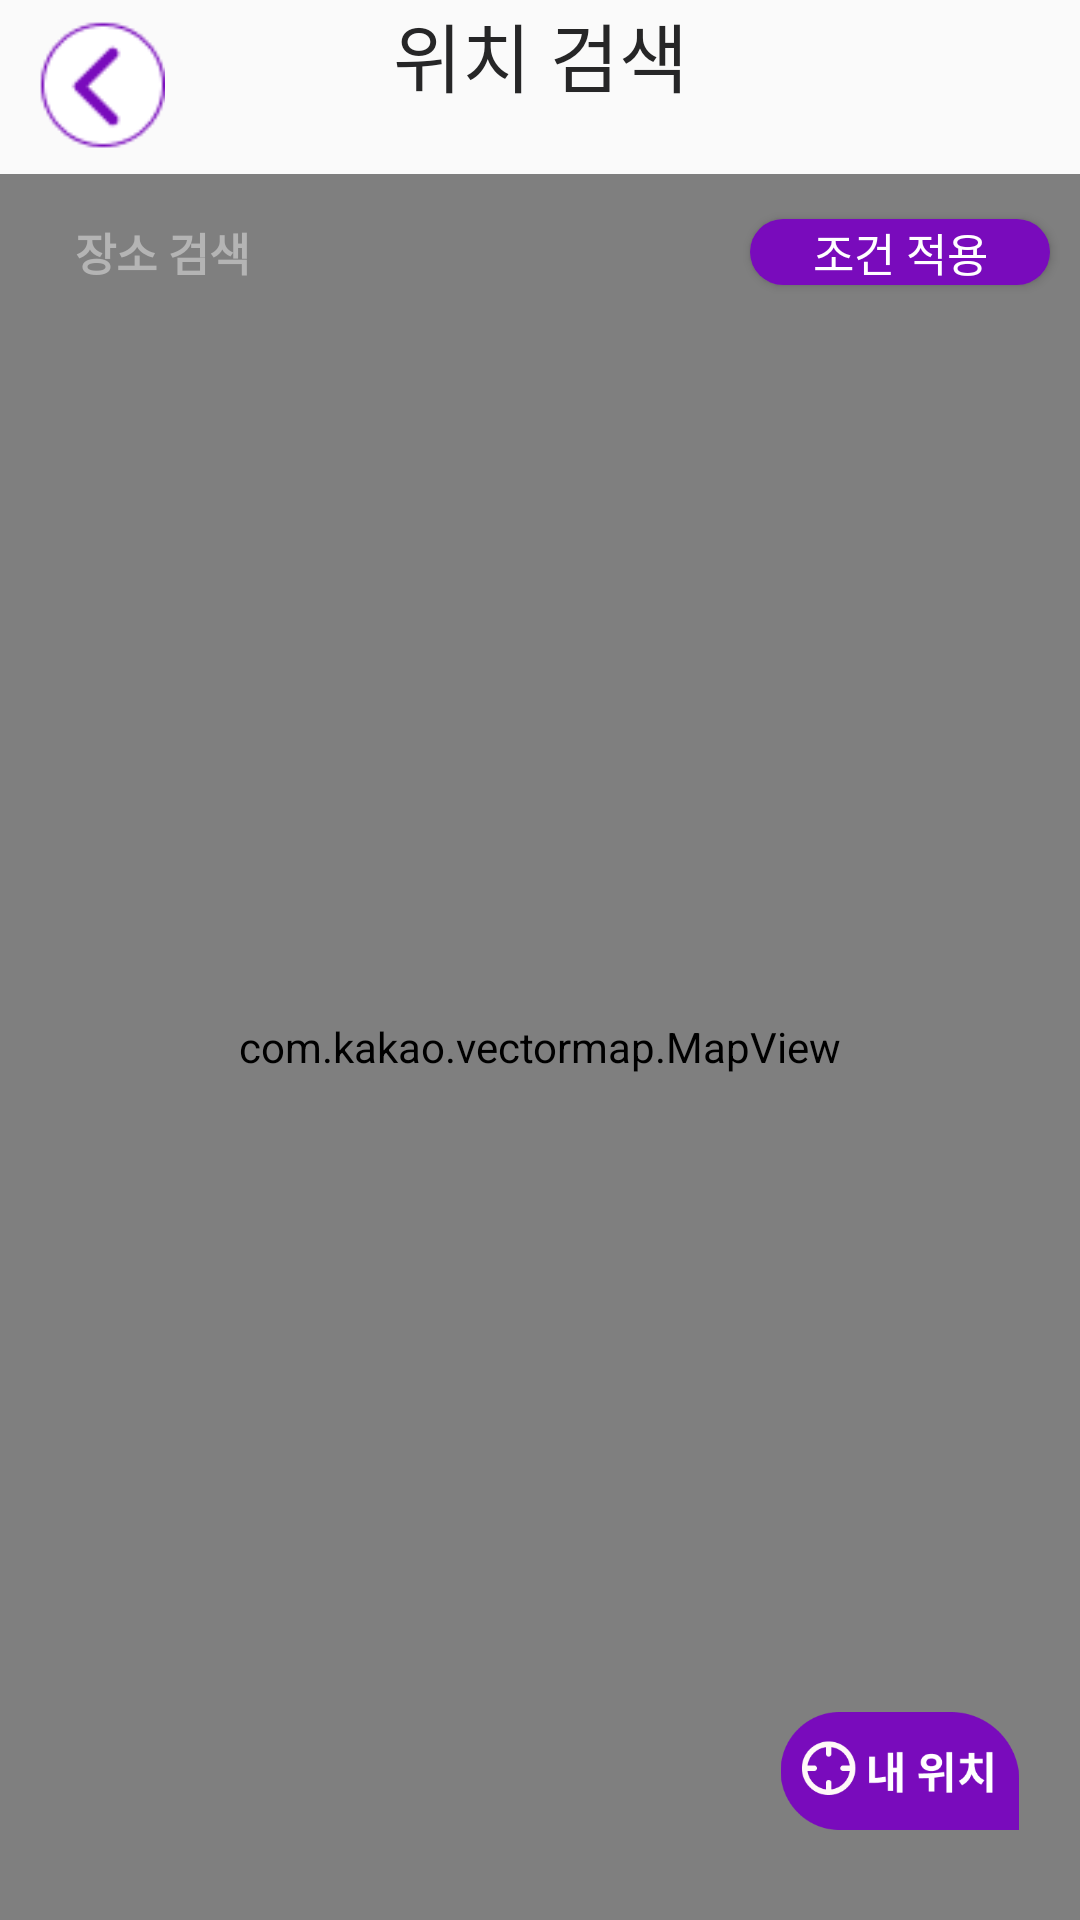

Locate icon controls on the screen. Image size 1080×1920, boxes as (x1=x1, y1=y1, x2=x2, y2=y2).
화면 뒤로 돌아가기 버튼: (x1=40, y1=22, x2=165, y2=148)
